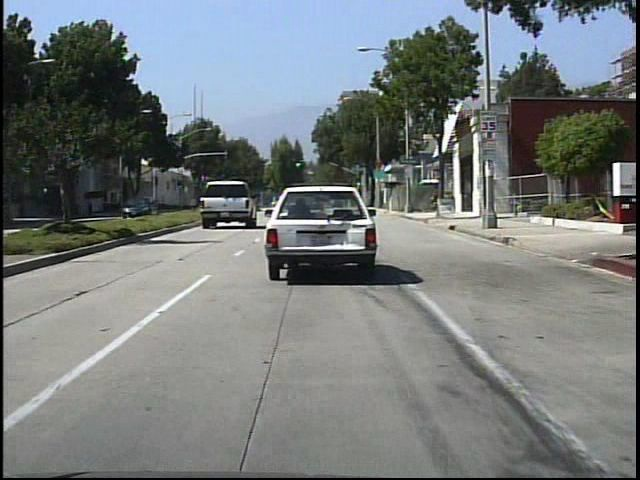person: (133, 193, 148, 216), (85, 196, 97, 219)
